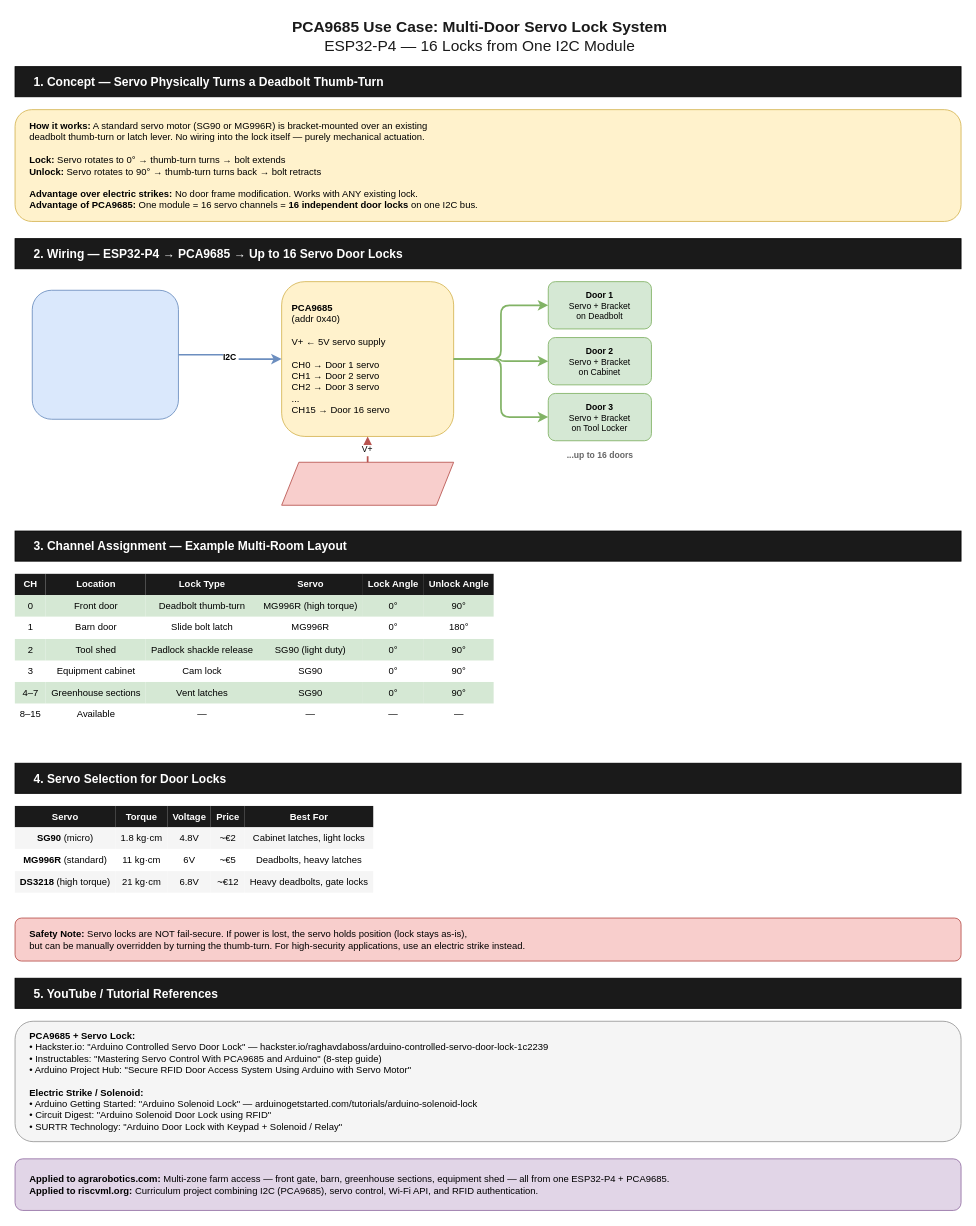
The diagram is 976 pixels wide and 1226 high, and some of its shapes have lost their labels. The box of each missing label's shape, as (x1, y1, x2, y2) in pixels:
5V Servo Supply (2A per 4 servos): (281, 461, 454, 505)
ESP32-P4 GPIO 21 → SDA GPIO 20 → SCL 3V3 → VCC GND → GND I2C Bus 1: (31, 289, 178, 419)
